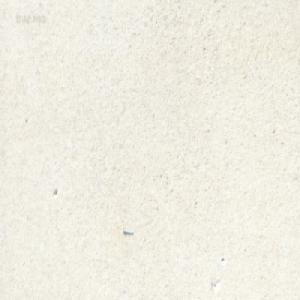Nail: (123, 228, 133, 236)
